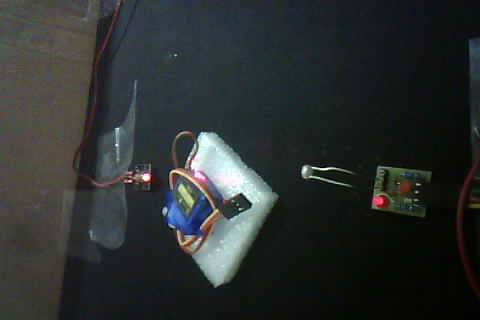motor: (158, 127, 272, 285)
